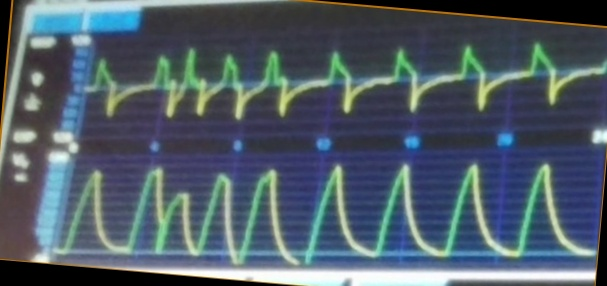Double_Triggering Flow: (84, 42, 565, 121)
Double_Triggering Volume: (58, 163, 568, 267)
